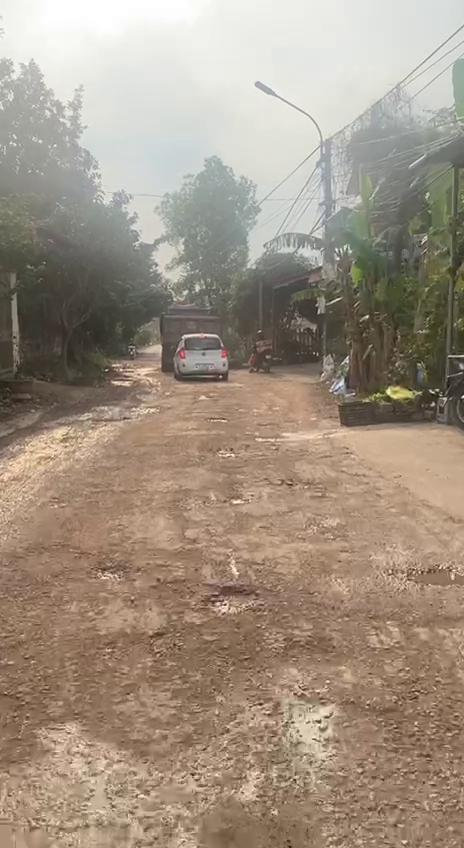pothole: (262, 686, 464, 848), (205, 582, 263, 624), (394, 560, 464, 590), (228, 495, 252, 506), (216, 448, 238, 459), (205, 416, 230, 424)
